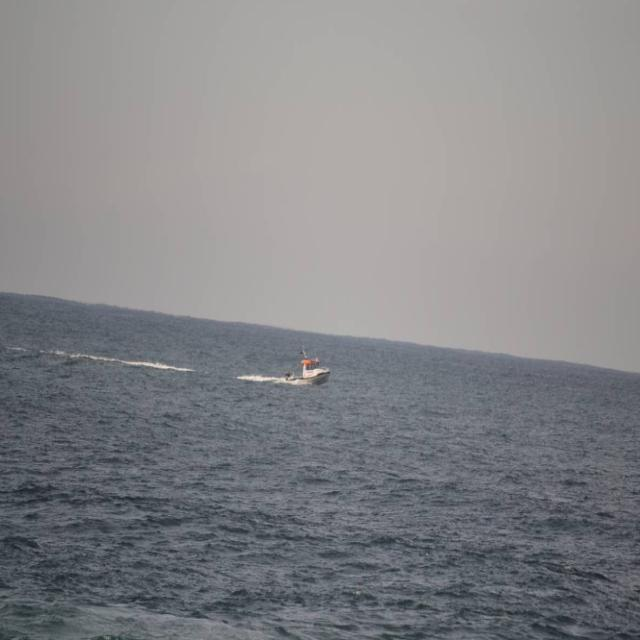houseboat: (285, 339, 332, 390)
